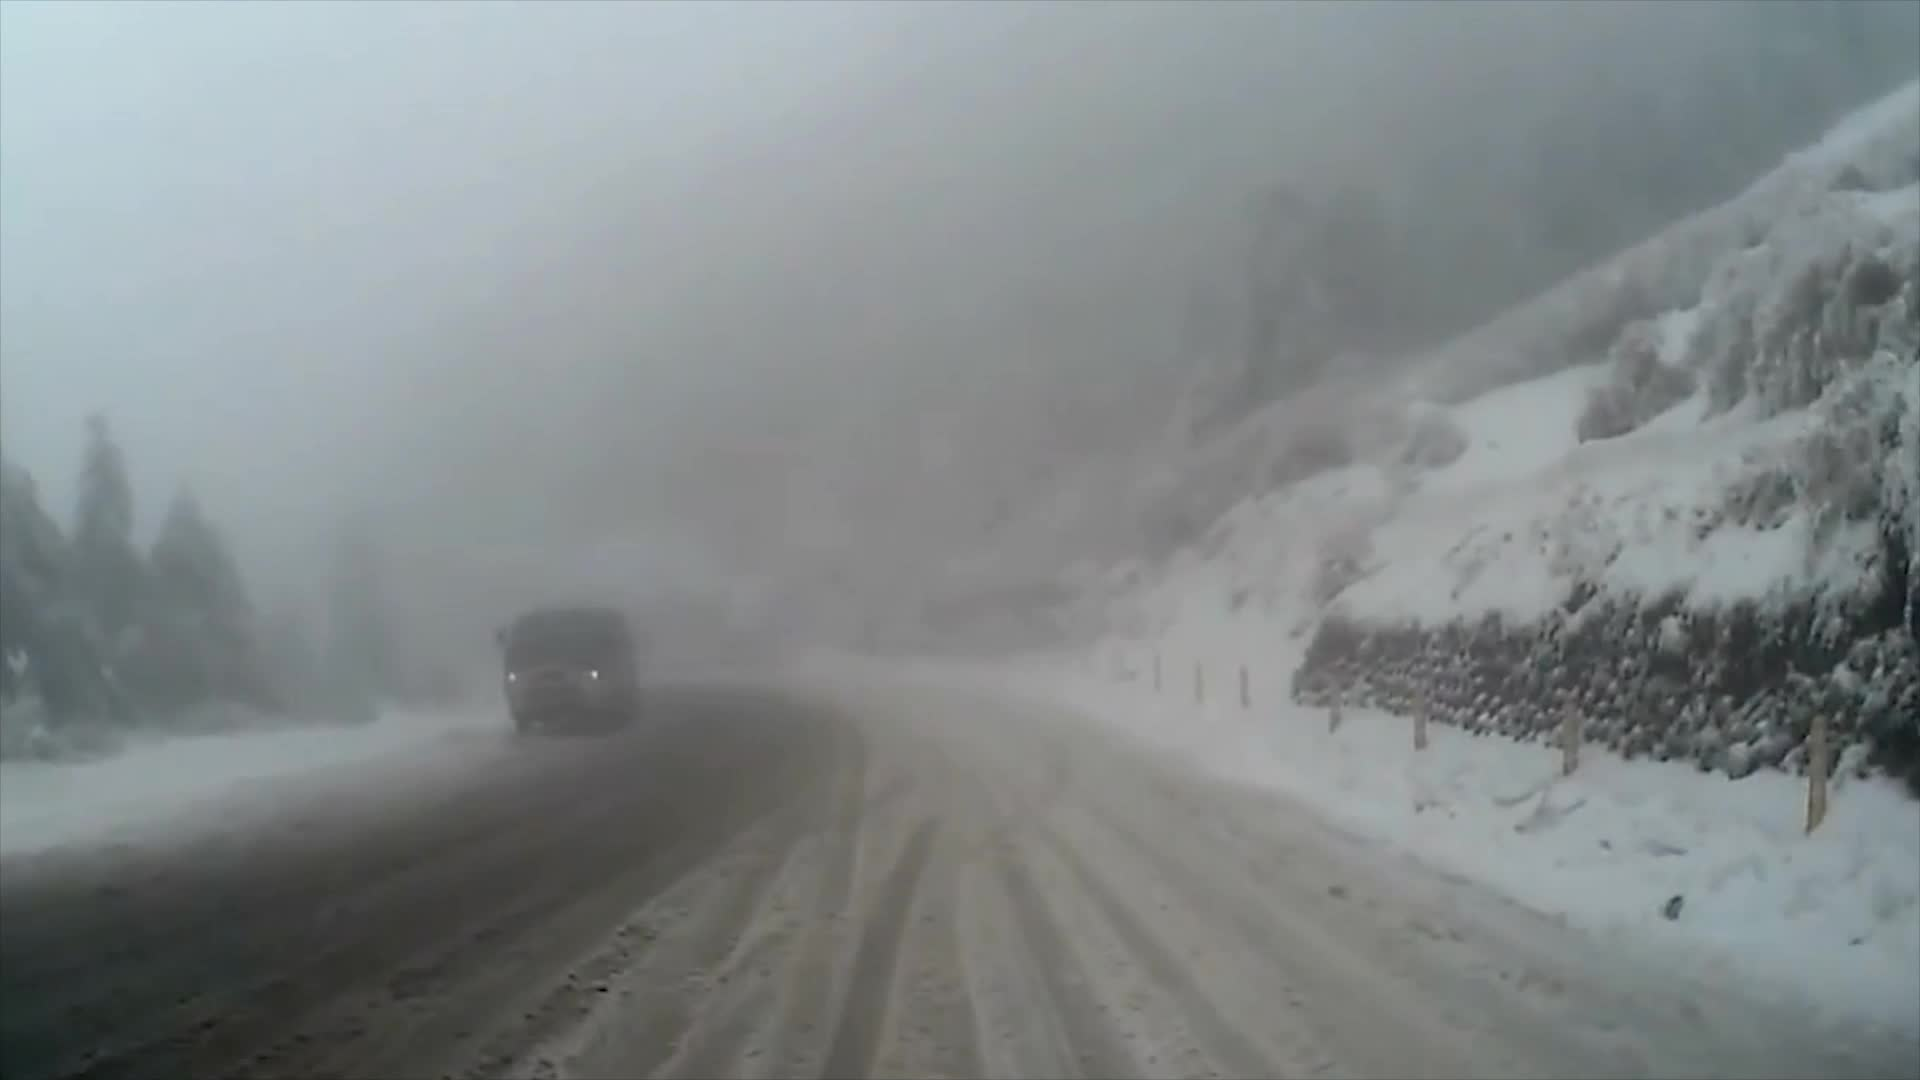vehicle: (495, 605, 638, 735)
